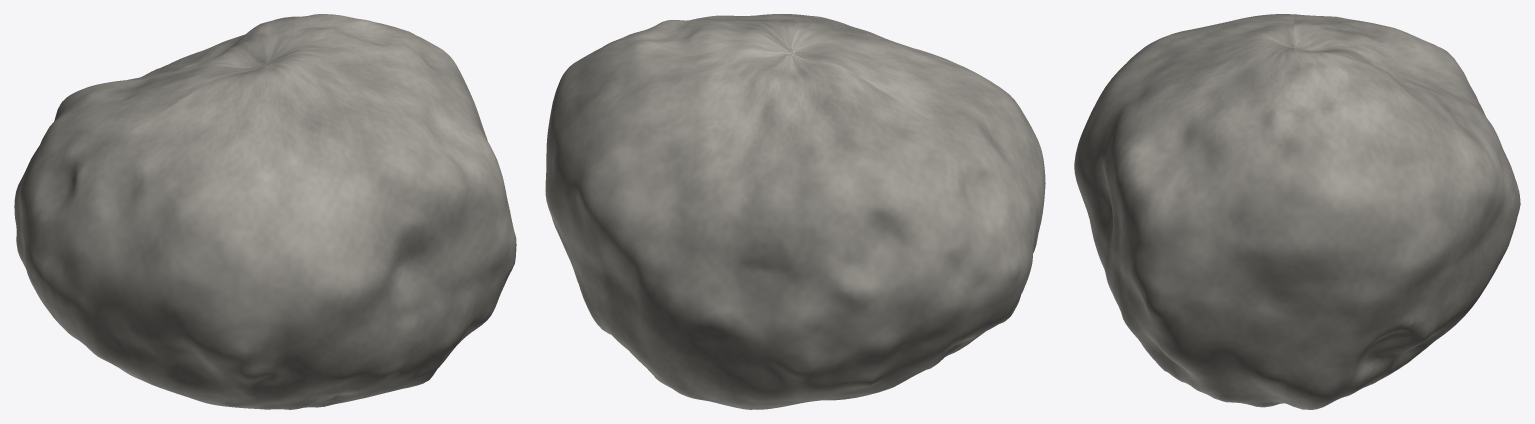
The picture shows the model from 3 angles, left to right: view 1: azimuth 30°, elevation 25°; view 2: azimuth 150°, elevation 25°; view 3: azimuth 270°, elevation 25°; orthographic projection. The views are drawn at different scales.
Visible parts, largest first — view 1: Janus; view 2: Janus; view 3: Janus.
Part boxes in pixels (x1=…): Janus: x1=14, y1=14, x2=516, y2=409; Janus: x1=545, y1=14, x2=1045, y2=409; Janus: x1=1074, y1=14, x2=1520, y2=409.
Bounding box in the file's own units: 207 × 153 × 190.
Materials: 1 (1 with a texture image).
